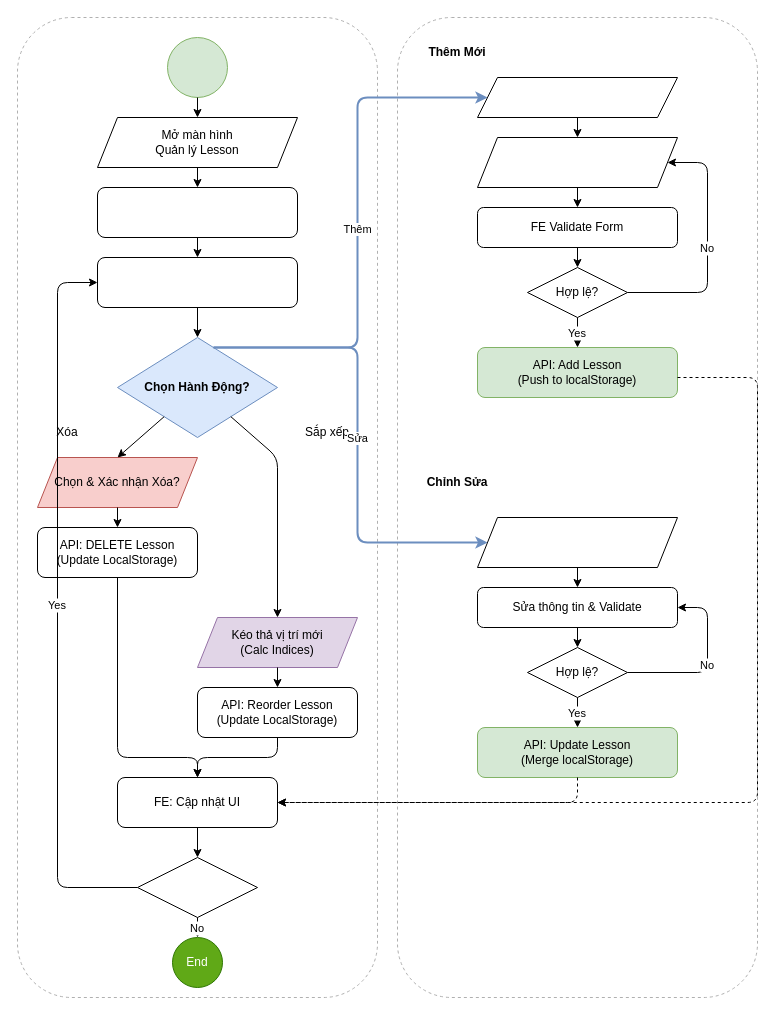
Some shapes in this 783 by 1015 pixel diagram are drawn without their labels. Here are the shapes that lost their labels. From the top down, the centre of each, then its label:
pixel 197 67: Start
pixel 577 97: Chọn Section
pixel 577 162: Nhập Form Lesson (Title, Video, Duration...)
pixel 197 212: FE: Load Course & Sections Data
pixel 197 282: Hiển thị List Lesson (theo Section)
pixel 577 542: Chọn Lesson & Pre-fill Form
pixel 197 887: Tiếp tục?
